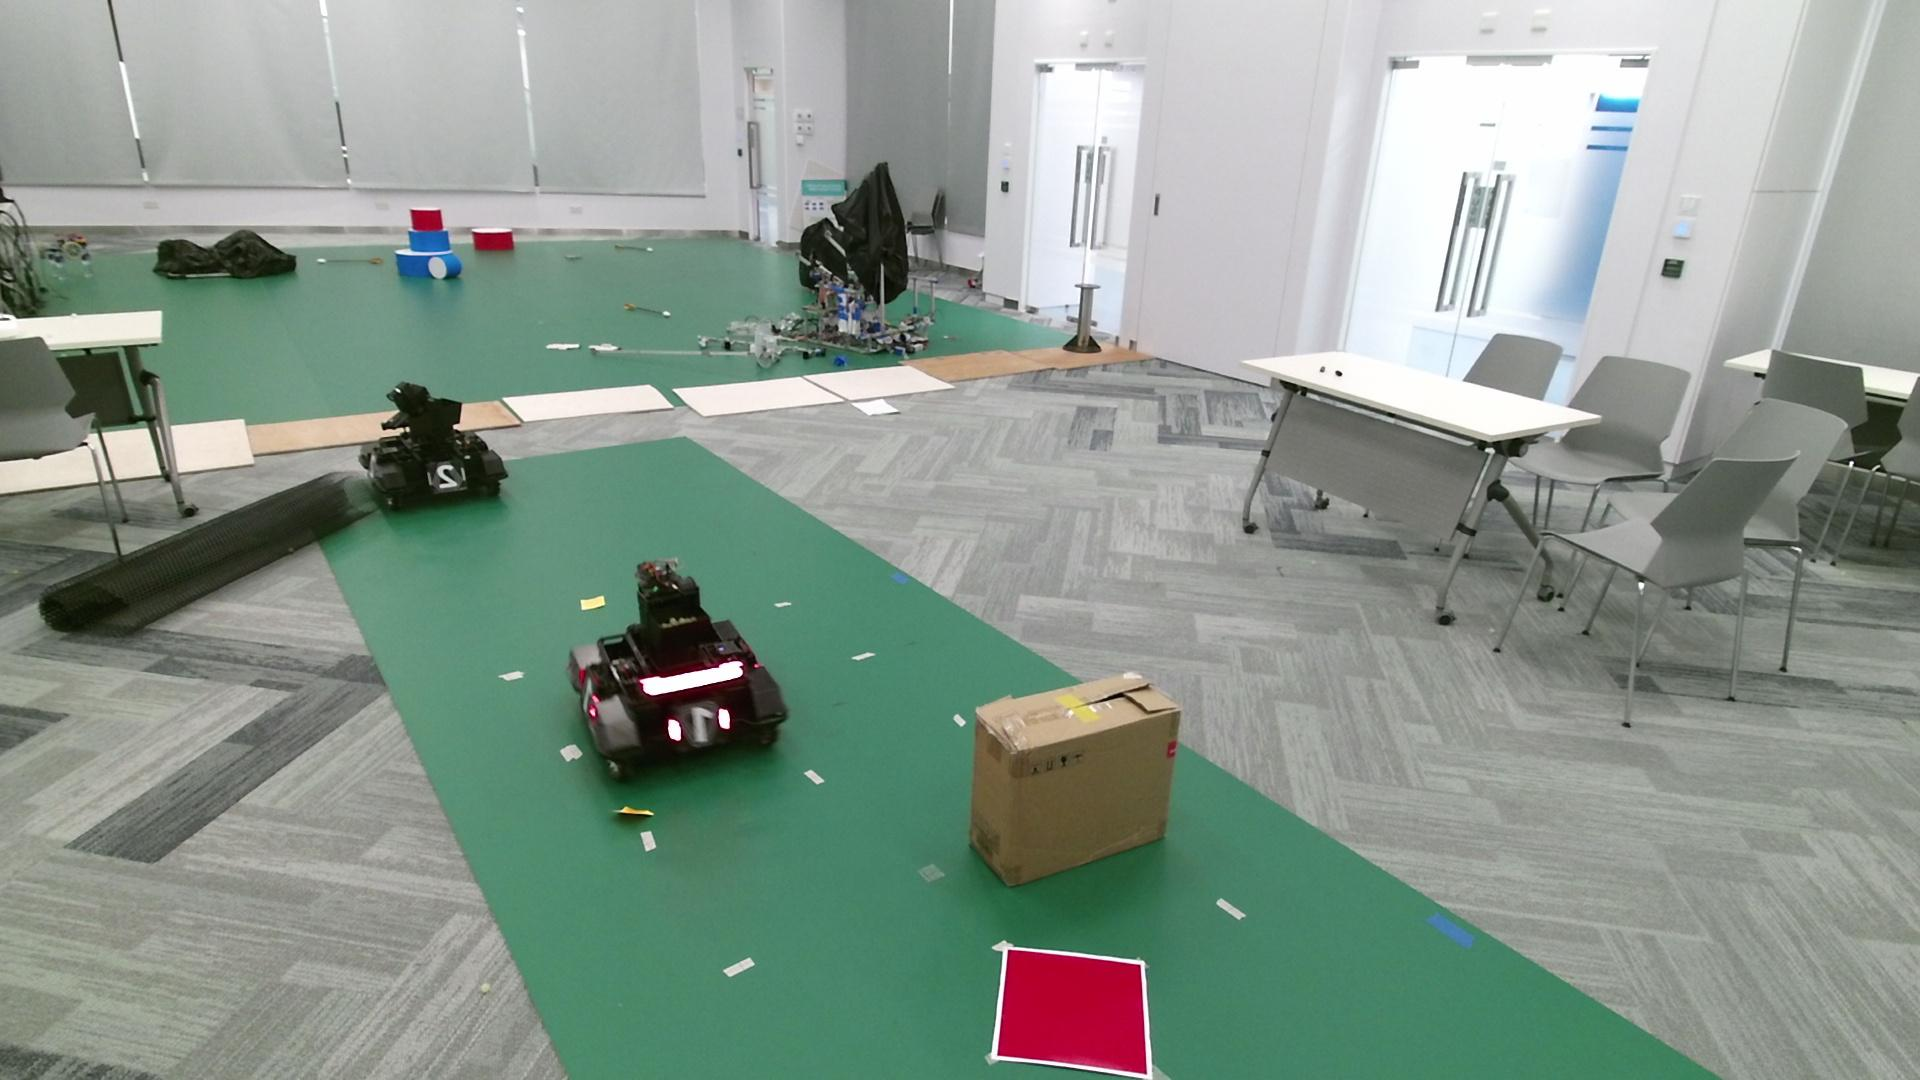robot: (568, 560, 789, 781), (357, 381, 510, 508)
